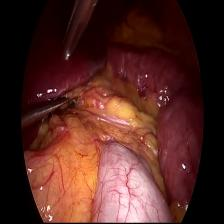Grasper: (52, 0, 102, 62), (20, 94, 79, 134)
